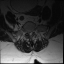CCS_severe_stenosis: (29, 30, 31, 37)
LFS_stenosis: (32, 28, 34, 34)
LLS_stenosis: (31, 29, 33, 36)
RFS_severe_stenosis: (26, 29, 28, 34)
RLS_stenosis: (28, 30, 29, 36)
